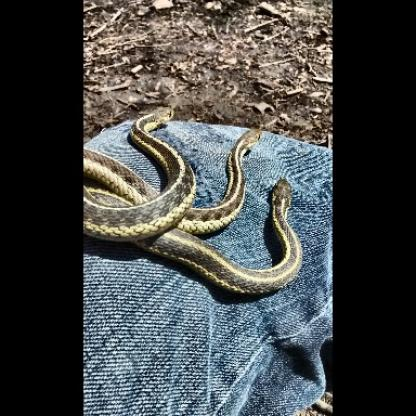Snake: (186, 176, 305, 299), (98, 100, 189, 243), (200, 128, 261, 230)
